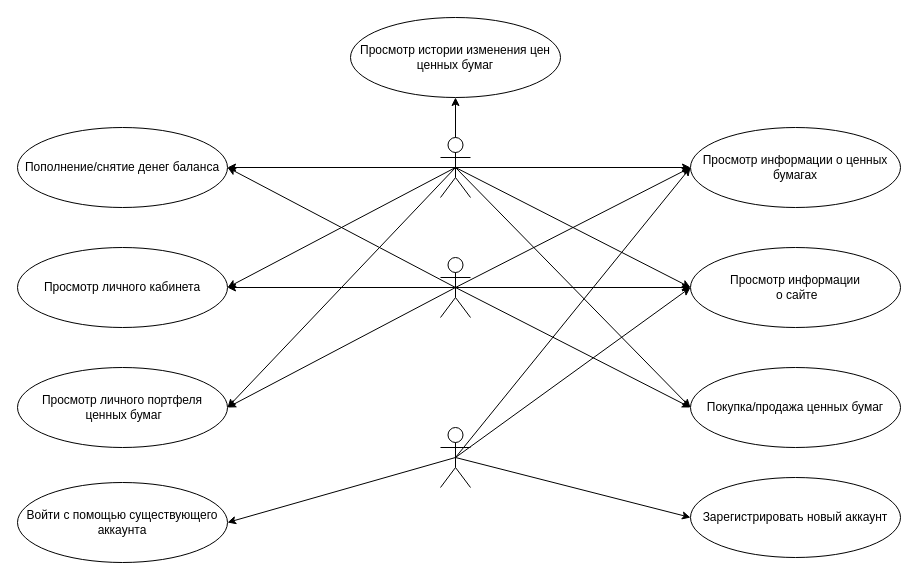
Image size: 918x580. Some labels were removed from this diagram. Here are the shapes that lost their labels. From the top down, the centre of each, then its label:
point (455, 167): Админ
point (455, 287): Авторизированный пользователь
point (455, 457): Не авторизированный пользователь
